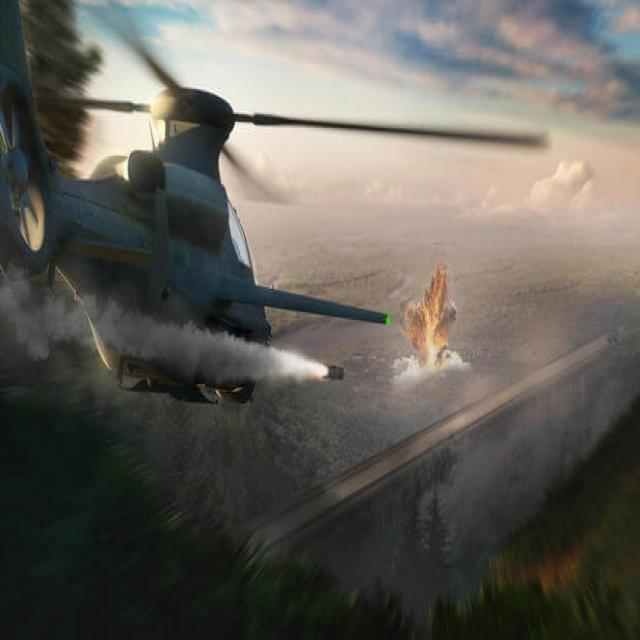helicopter: (13, 10, 354, 435)
